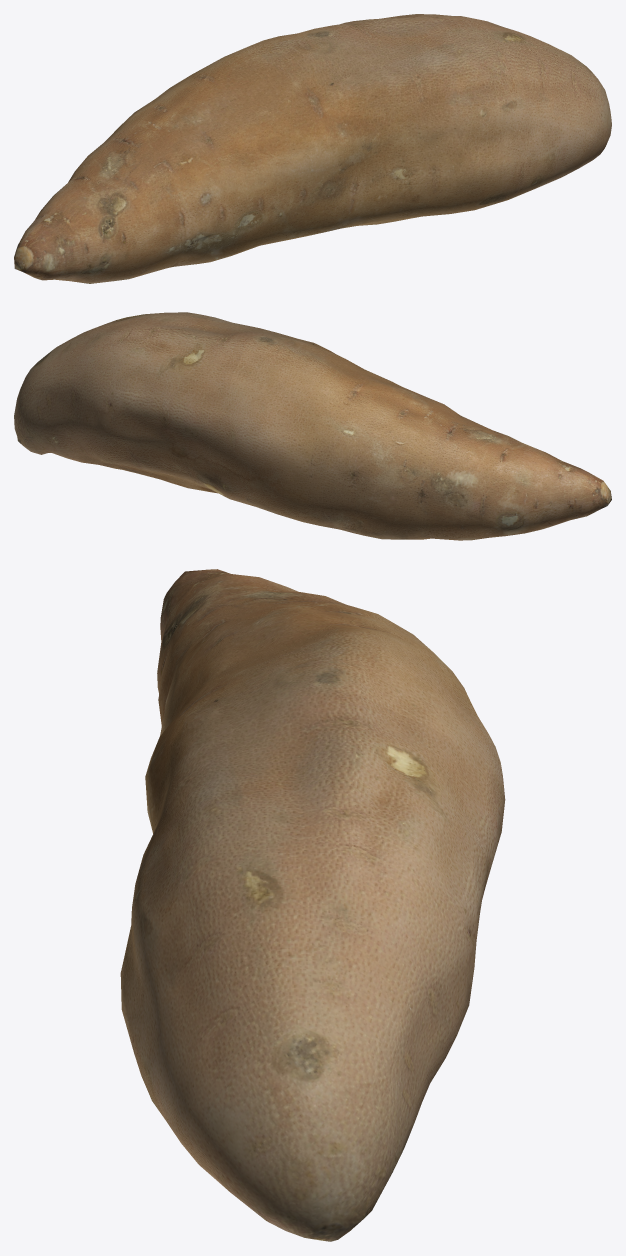
File: yuca.fbx
3 renders of one model, top to bottom at view 1: azimuth 30°, elevation 25°; view 2: azimuth 150°, elevation 25°; view 3: azimuth 270°, elevation 25°, orthographic. The views are drawn at different scales.
Visible parts, largest first — view 1: a5233ac06fe04fd1b7c35d4362334b30; view 2: a5233ac06fe04fd1b7c35d4362334b30; view 3: a5233ac06fe04fd1b7c35d4362334b30.
Part boxes in pixels (left/top/right/bottom): a5233ac06fe04fd1b7c35d4362334b30: left=14, top=14, right=611, bottom=283; a5233ac06fe04fd1b7c35d4362334b30: left=14, top=312, right=611, bottom=540; a5233ac06fe04fd1b7c35d4362334b30: left=120, top=569, right=505, bottom=1241.
Bounding box in the file's own units: 492 × 145 × 146.
1 material, 1 textured.
